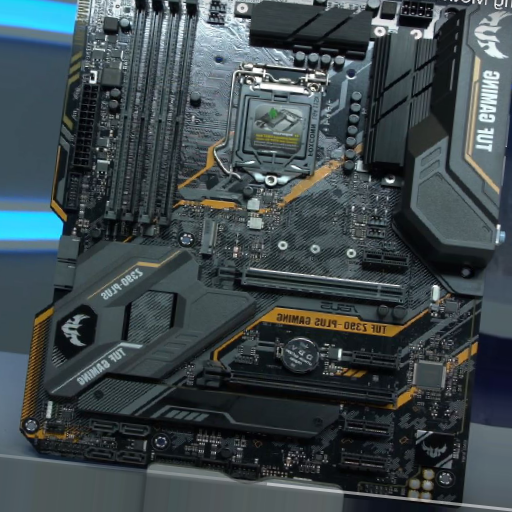CPU: (229, 61, 329, 188)
GPU: (196, 359, 398, 405), (213, 260, 409, 305)
MOTHERBOARD: (18, 1, 512, 506)
RAM: (104, 1, 200, 233)
SSD: (198, 216, 217, 255)
